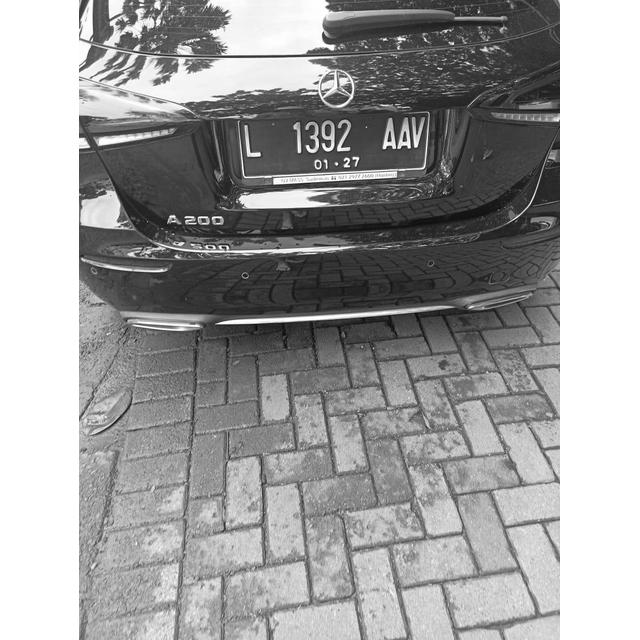license: (242, 114, 425, 170)
